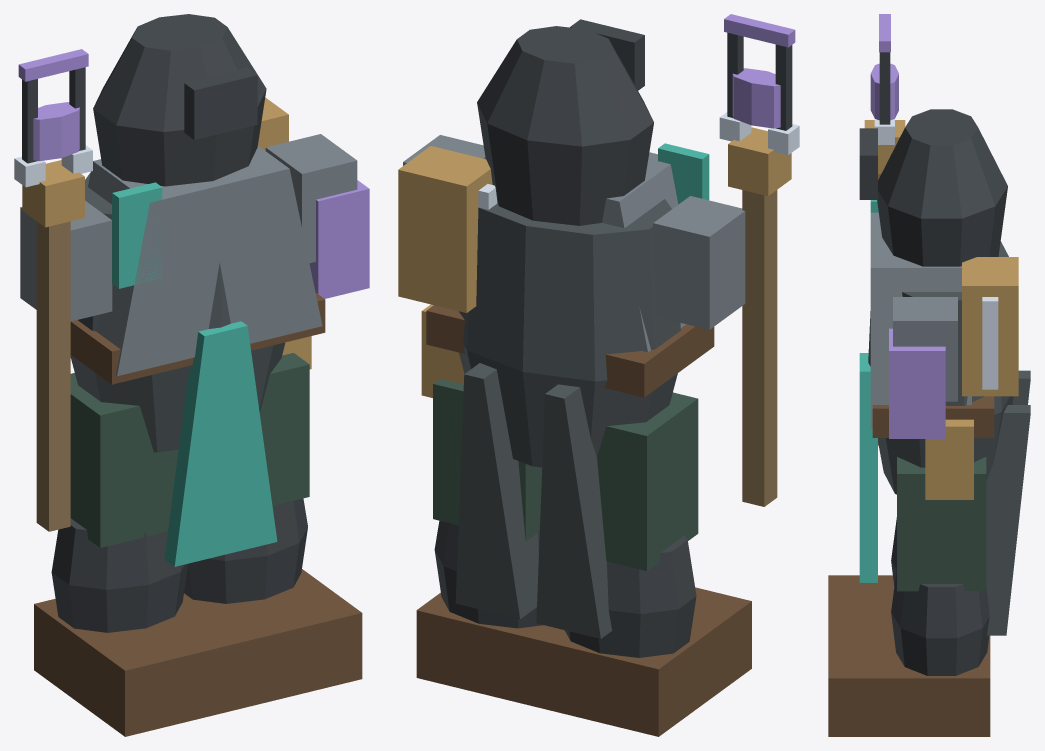
File: unit-elementalist-lightning.glb
3 views of the same model, side by side, from view 1: azimuth 30°, elevation 25°; view 2: azimuth 150°, elevation 25°; view 3: azimuth 270°, elevation 25° (orthographic). The views are drawn at different scales.
Visible parts, largest first — view 1: Body, LegL, LegR, Weapon; view 2: Body, LegL, Weapon, LegR; view 3: Body, LegR, LegL, Weapon.
Part boxes in pixels (x1=…): Body: x1=20, y1=14, x2=369, y2=566; LegL: x1=34, y1=373, x2=243, y2=736; LegR: x1=183, y1=353, x2=362, y2=707; Weapon: x1=14, y1=49, x2=92, y2=531; Body: x1=398, y1=19, x2=745, y2=638; LegL: x1=537, y1=392, x2=751, y2=736; Weapon: x1=719, y1=14, x2=799, y2=506; LegR: x1=416, y1=379, x2=553, y2=707; Body: x1=859, y1=109, x2=1030, y2=635; LegR: x1=828, y1=457, x2=990, y2=736; LegL: x1=828, y1=517, x2=896, y2=626; Weapon: x1=864, y1=14, x2=905, y2=445.
Bounding box in the file's own units: 0.89 × 1.6 × 0.5.
